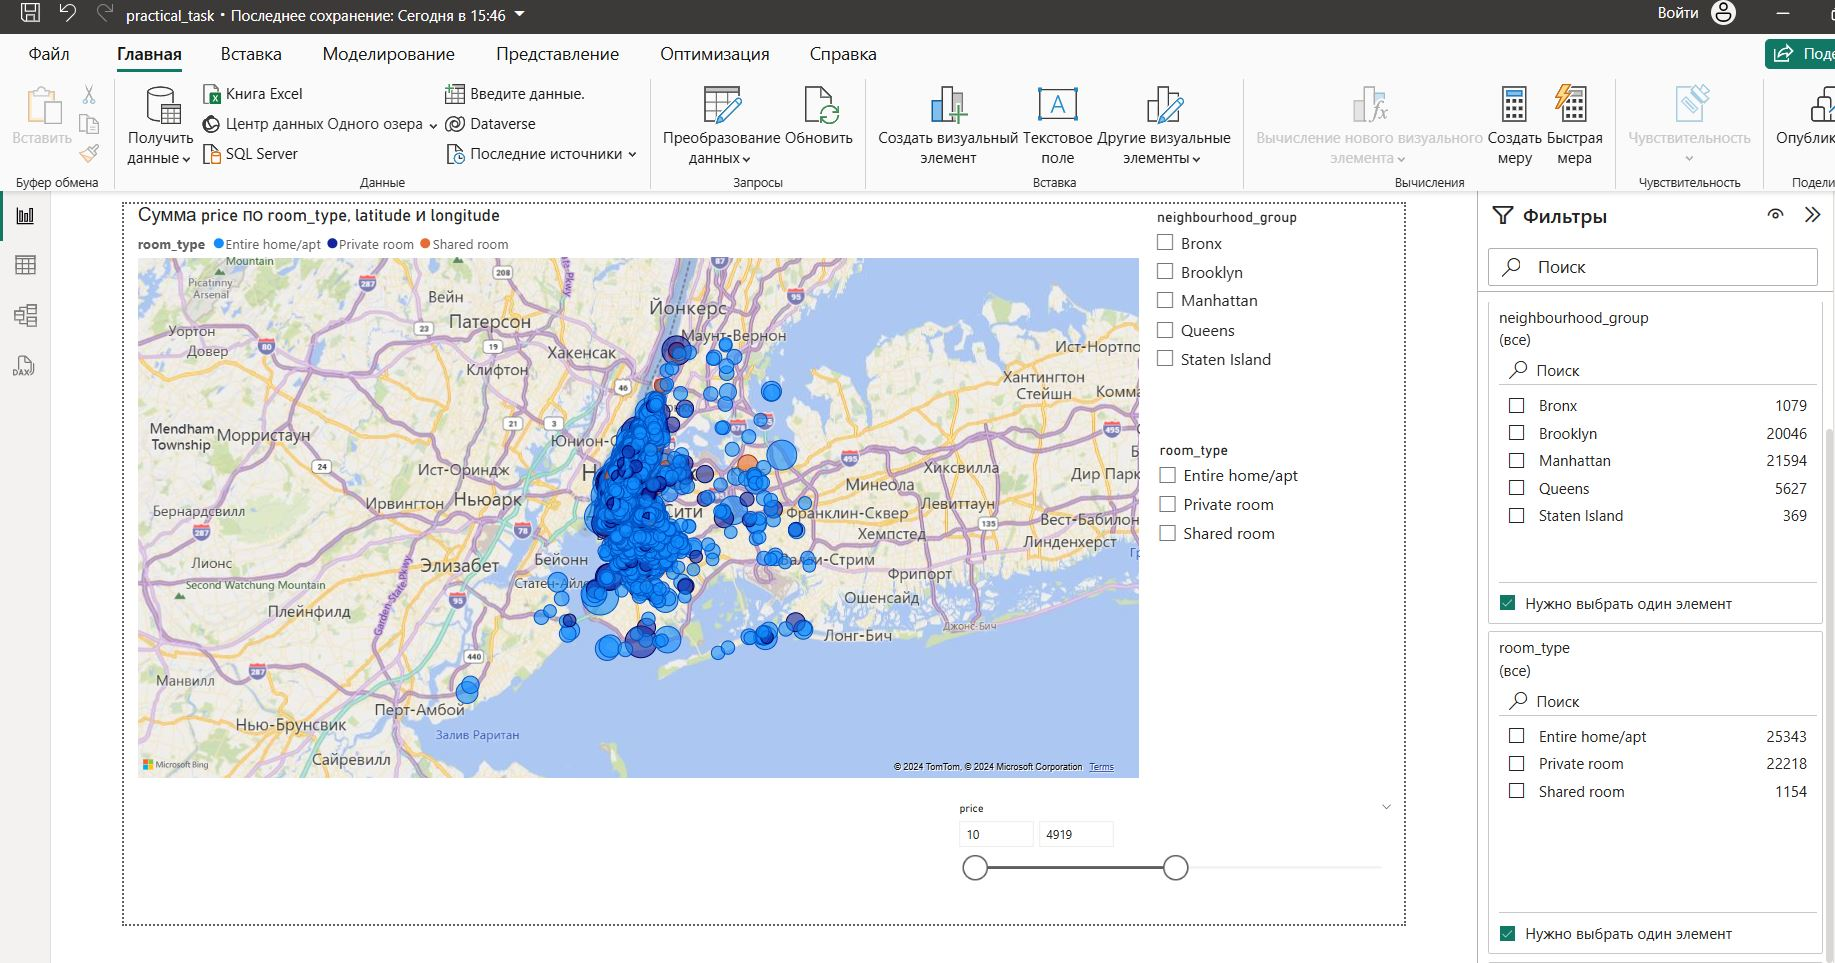

The page's visual inventory and layout, read from the dashboard file:
{"tool":"powerbi","page":{"name":"Map Visualization","canvas":[1280,720],"ordinal":0},"visuals":[{"type":"map","fields":{"Y":["AB_NYC_2019.latitude"],"X":["AB_NYC_2019.longitude"],"Series":["AB_NYC_2019.room_type"],"Size":["Sum(AB_NYC_2019.price)"]},"box":[8.8,0,1011.2,580],"z":0},{"type":"slicer","fields":{"Values":["AB_NYC_2019.room_type"]},"box":[1022.5,232.5,257.5,127.5],"z":1},{"type":"slicer","fields":{"Values":["AB_NYC_2019.neighbourhood_group"]},"box":[1020,0,260,207.5],"z":2},{"type":"slicer","fields":{"Values":["AB_NYC_2019.price"]},"box":[822.5,592.5,457.5,127.5],"z":3}]}

Visuals, with their boxes on the page's 1280x720 design canvas (x1, y1, x2, y2). These are canvas units, not pixel positions in the 1835x963 screenshot, which may show the page scaled, cropped or inside an application window:
map - AB_NYC_2019.latitude x AB_NYC_2019.longitude: 9/0/1020/580
slicer - AB_NYC_2019.room_type: 1022/232/1280/360
slicer - AB_NYC_2019.neighbourhood_group: 1020/0/1280/208
slicer - AB_NYC_2019.price: 822/592/1280/720
